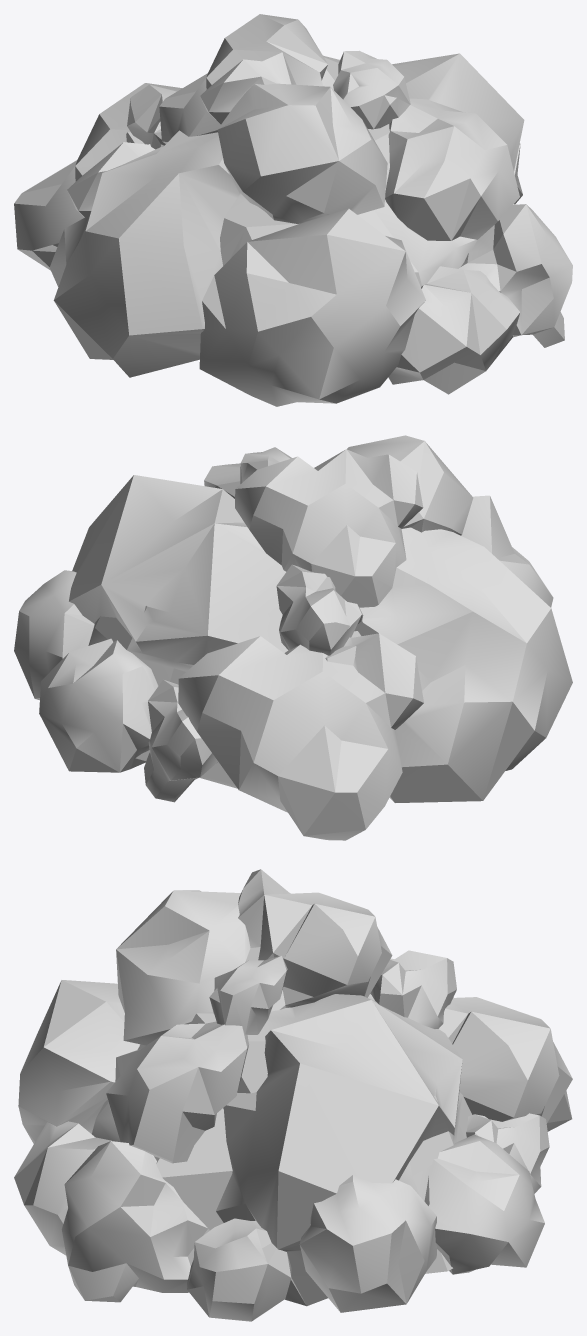
The model's file is m_Regolith.fbx.
The picture shows the model from 3 angles, top to bottom: view 1: azimuth 30°, elevation 25°; view 2: azimuth 150°, elevation 25°; view 3: azimuth 270°, elevation 25°; orthographic projection. The views are drawn at different scales.
Parts seen in each view (by area): view 1: r_Regolith; view 2: r_Regolith; view 3: r_Regolith.
Boxes of the visible parts, x1,y1,x2,y2 form: r_Regolith: (14, 14, 572, 406); r_Regolith: (14, 435, 572, 840); r_Regolith: (14, 869, 572, 1321).
Bounding box in the file's own units: 22.85 × 13.39 × 21.
